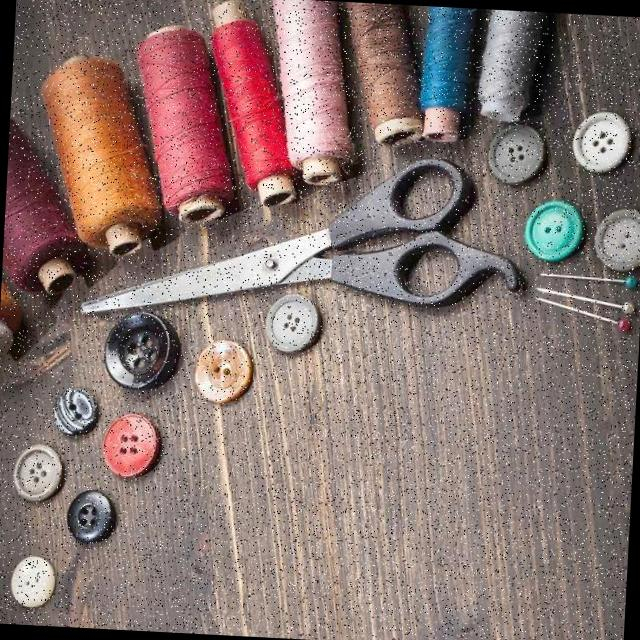scissors: (75, 133, 532, 340)
